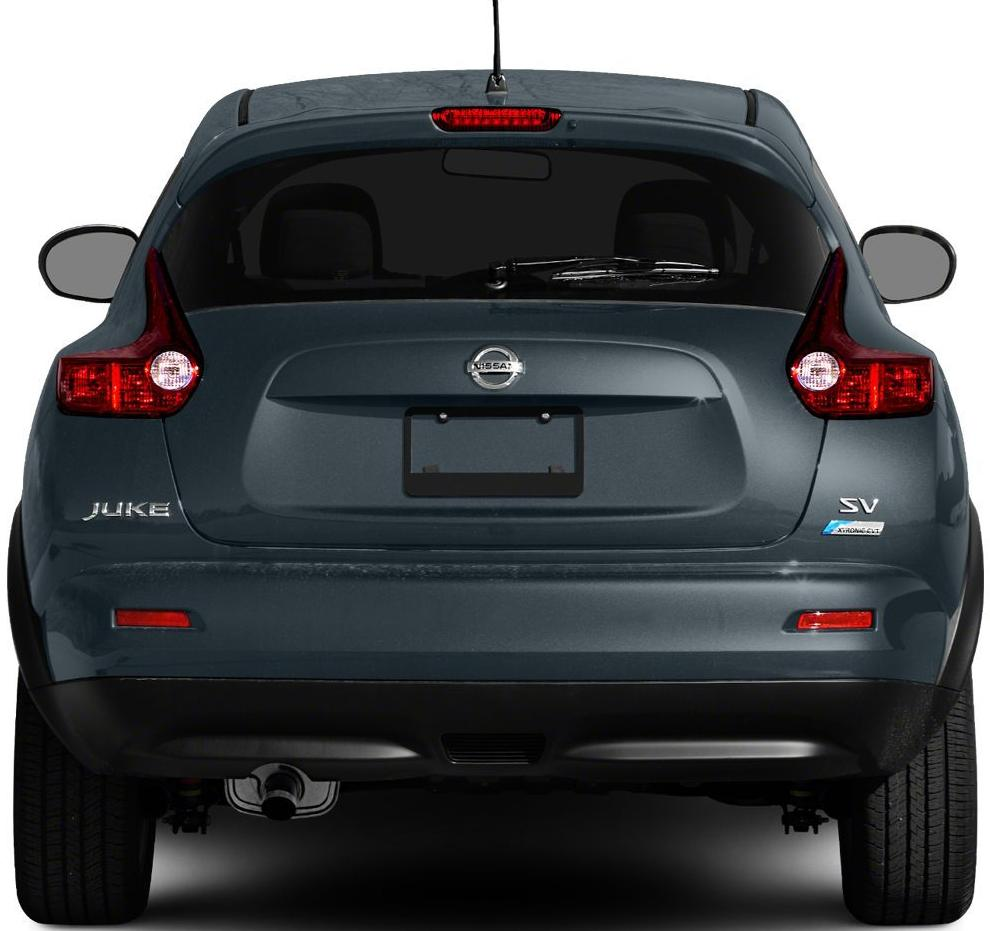back_view: (42, 352, 969, 839)
backlight: (779, 254, 940, 449)
